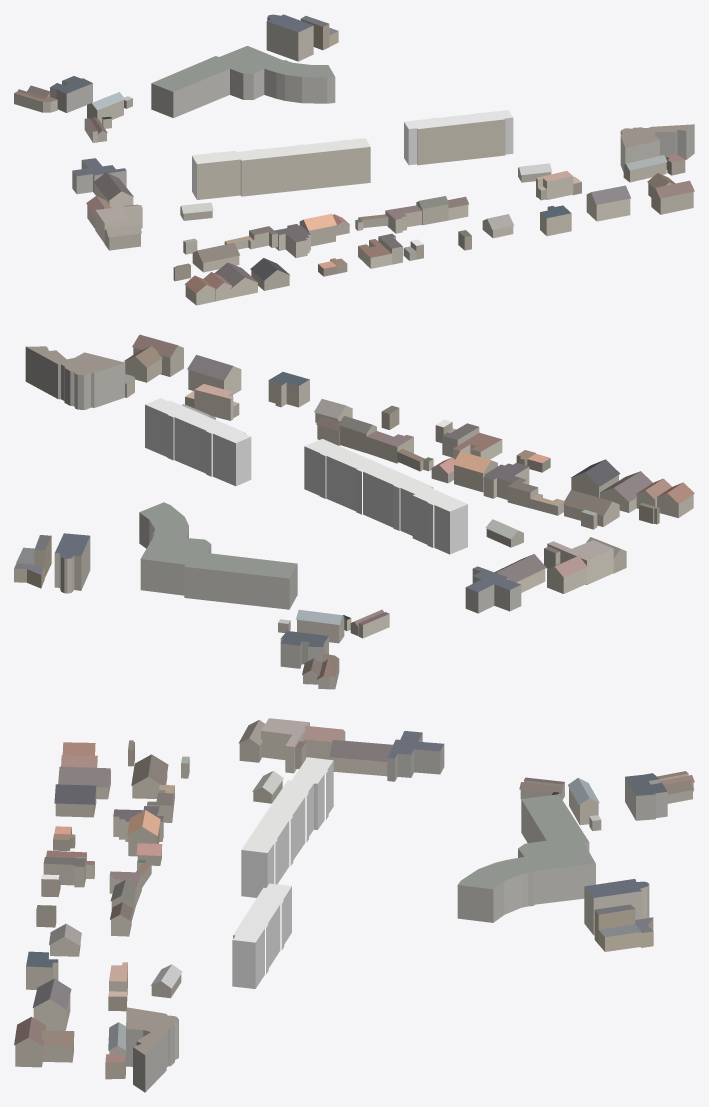
3 renders of one model, top to bottom at view 1: azimuth 30°, elevation 25°; view 2: azimuth 150°, elevation 25°; view 3: azimuth 270°, elevation 25°, orthographic. The views are drawn at different scales.
Parts seen in each view (by area): view 1: tuile; view 2: tuile; view 3: tuile.
Part boxes in pixels (x1=…): tuile: x1=14, y1=14, x2=694, y2=305; tuile: x1=14, y1=334, x2=694, y2=689; tuile: x1=14, y1=718, x2=694, y2=1092.
Bounding box in the file's own units: 249 × 24.19 × 209.
